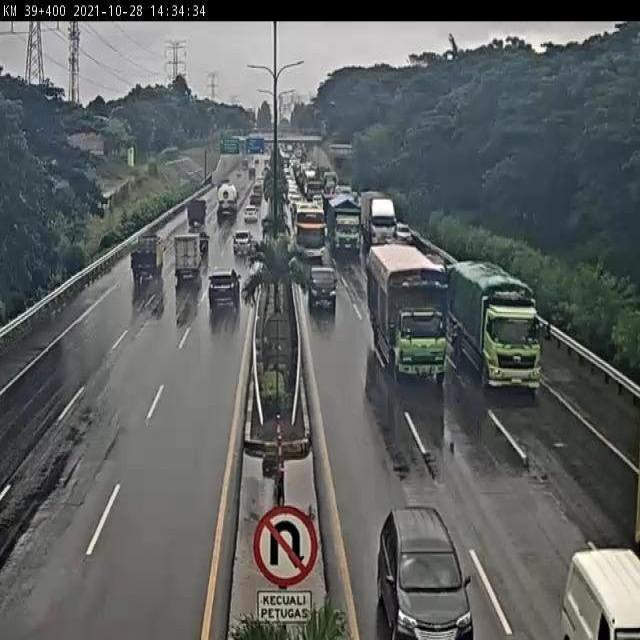big bus: (292, 203, 328, 268)
big truck: (447, 260, 546, 395), (367, 242, 448, 382), (325, 190, 361, 253), (359, 189, 397, 243)
car: (377, 506, 472, 640), (302, 263, 338, 312), (207, 269, 245, 312), (227, 231, 255, 265)
small truck: (129, 233, 165, 288), (171, 235, 205, 285), (184, 200, 210, 233)
